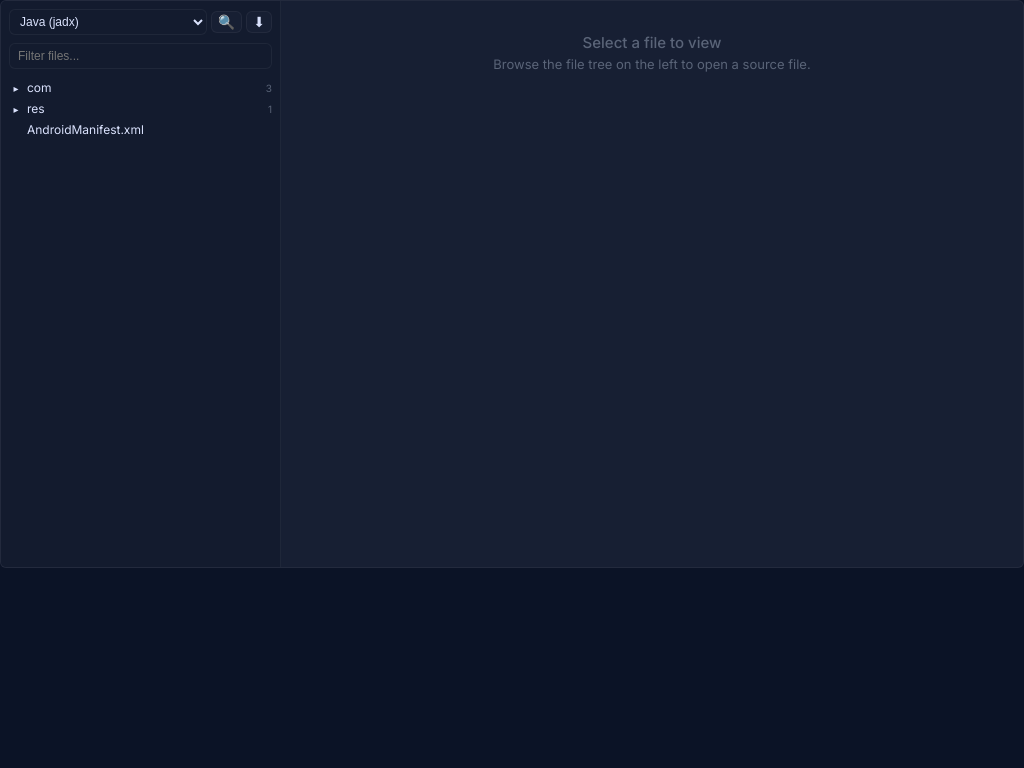
Test case: CodeBrowser › opens file as preview tab (italic) on single click
The width and height of the screenshot is (1024, 768).
Click the list item with test id "tree-file-AndroidManifest.xml".
click(85, 130)  # box [27,122,144,137]
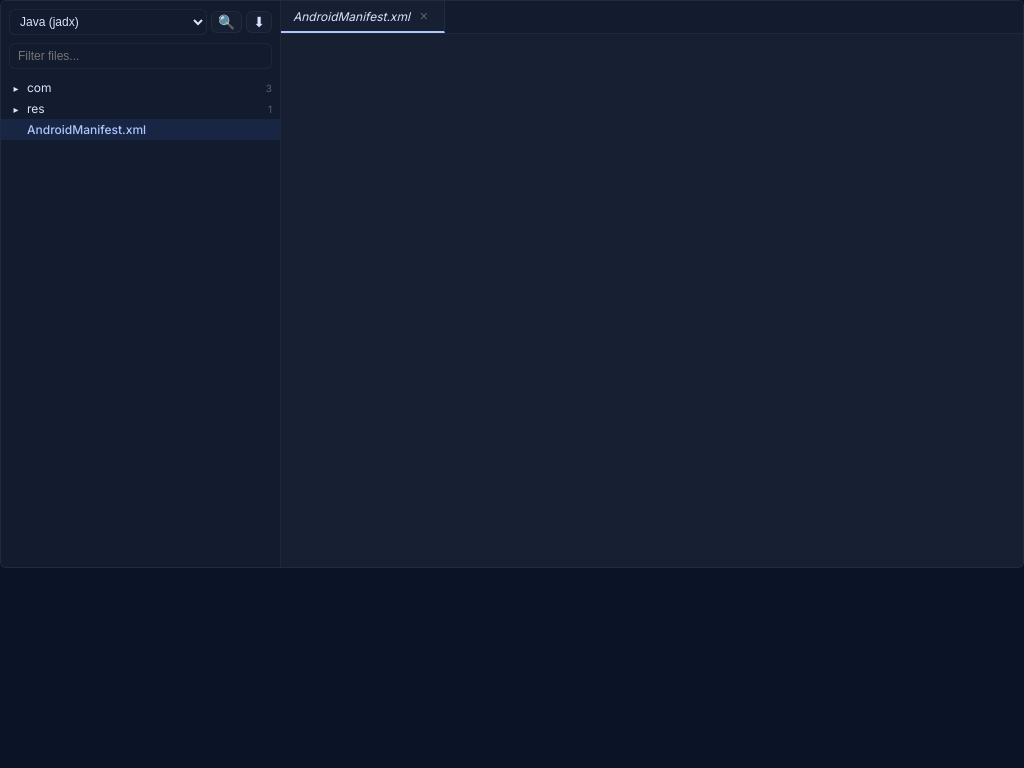
Result: the element with test id "tab-AndroidManifest.xml" is shown at [281,1,445,33]
